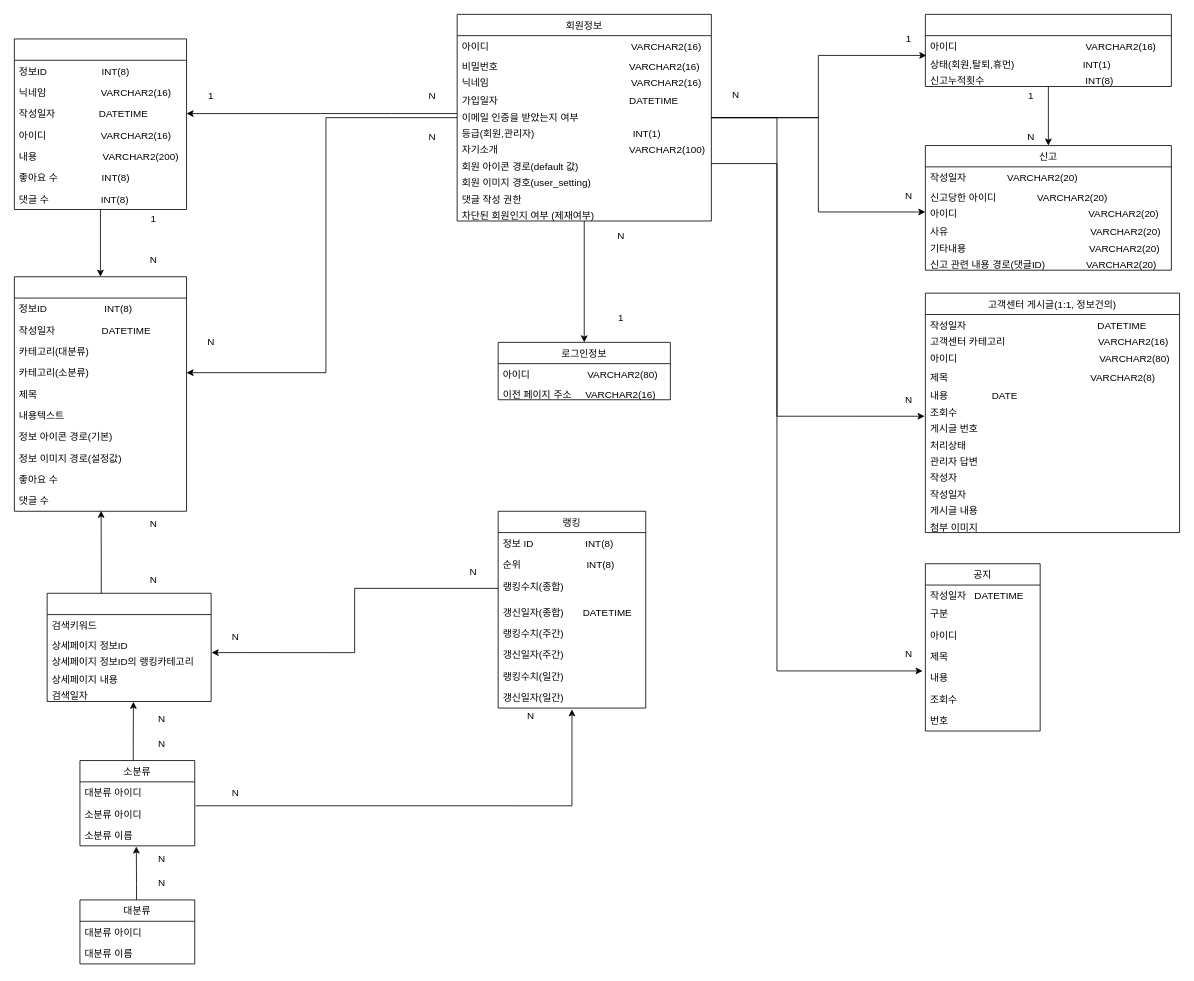
Some shapes in this 1194 by 981 pixel diagram are drawn without their labels. The box of each missing label's shape, as (x1, y1, x2, y2) in pixels:
검색: (46, 592, 211, 702)
댓글: (14, 38, 187, 210)
상세페이지(정보): (14, 276, 187, 511)
회원 관리: (925, 14, 1171, 87)
